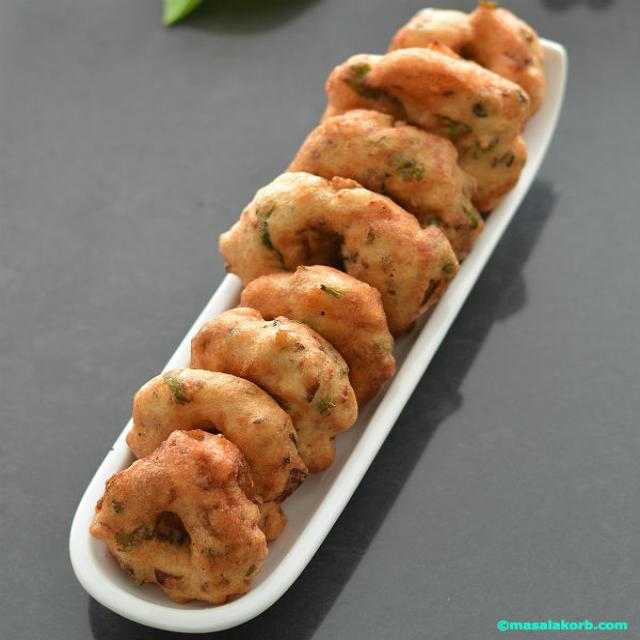Vada: (326, 11, 544, 219), (218, 172, 463, 342), (90, 425, 285, 610), (286, 109, 483, 259), (239, 266, 397, 410), (189, 307, 358, 434), (389, 0, 547, 110), (132, 374, 290, 462)
